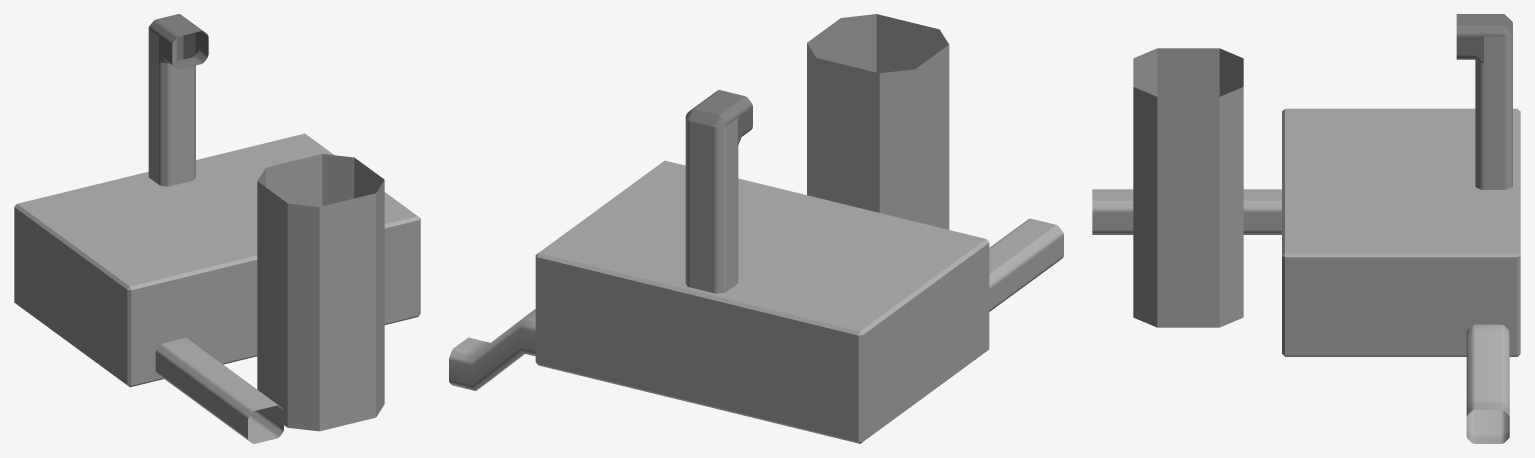
Rendered from tunul.fbx.
3 renders of one model, left to right at view 1: azimuth 30°, elevation 25°; view 2: azimuth 150°, elevation 25°; view 3: azimuth 270°, elevation 25°, orthographic. The views are drawn at different scales.
Parts seen in each view (by area): view 1: tunul_room, centertunul, tunul.003, tunul.002; view 2: tunul_room, centertunul, tunul.003, tunul.002, tunul.001; view 3: tunul_room, centertunul, tunul.003, tunul.001, tunul.002.
Boxes of the visible parts, left/top/right/bottom form: tunul_room: left=14, top=133, right=420, bottom=387; centertunul: left=257, top=154, right=384, bottom=431; tunul.003: left=148, top=14, right=208, bottom=186; tunul.002: left=155, top=338, right=283, bottom=443; tunul_room: left=535, top=160, right=989, bottom=443; centertunul: left=807, top=14, right=949, bottom=229; tunul.003: left=685, top=90, right=752, bottom=293; tunul.002: left=989, top=218, right=1063, bottom=311; tunul.001: left=449, top=309, right=535, bottom=390; tunul_room: left=1282, top=108, right=1520, bottom=356; centertunul: left=1133, top=48, right=1243, bottom=327; tunul.003: left=1456, top=14, right=1512, bottom=189; tunul.001: left=1466, top=324, right=1509, bottom=443; tunul.002: left=1092, top=189, right=1281, bottom=234.
Size of the model in its own units: 1354 by 1041 by 1303.
2 materials, 1 textured.
